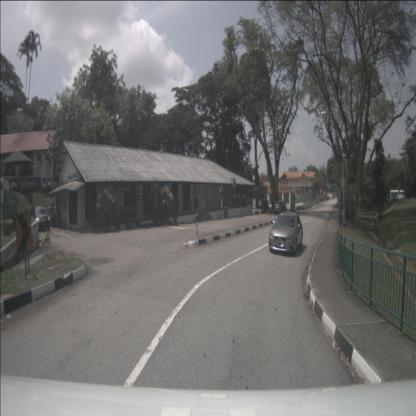vehicle-bicycle: (36, 232, 51, 249)
vehicle-bus-rigid: (390, 191, 405, 201)
vehicle-car: (268, 213, 303, 255), (30, 206, 50, 231), (273, 200, 287, 216)
